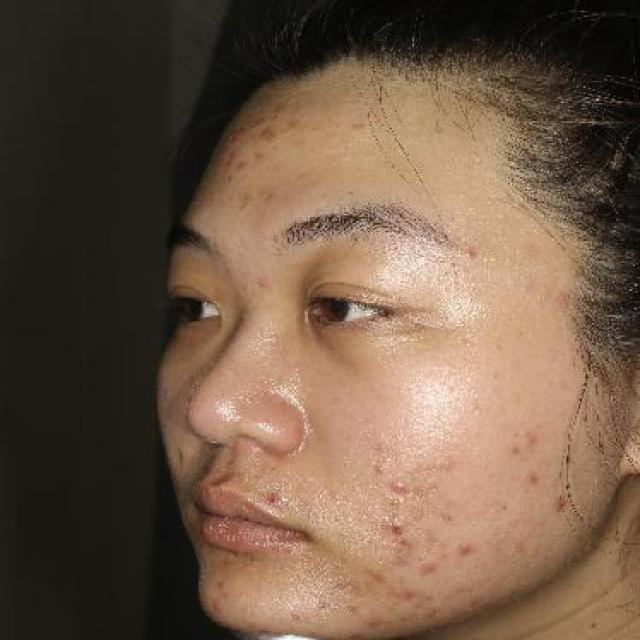dark spot: (257, 121, 289, 154), (544, 491, 582, 518), (515, 422, 549, 452), (414, 550, 443, 584), (255, 488, 296, 512), (452, 534, 486, 561), (522, 463, 551, 494), (500, 440, 530, 462), (359, 611, 387, 634)
papules: (387, 517, 409, 540)
